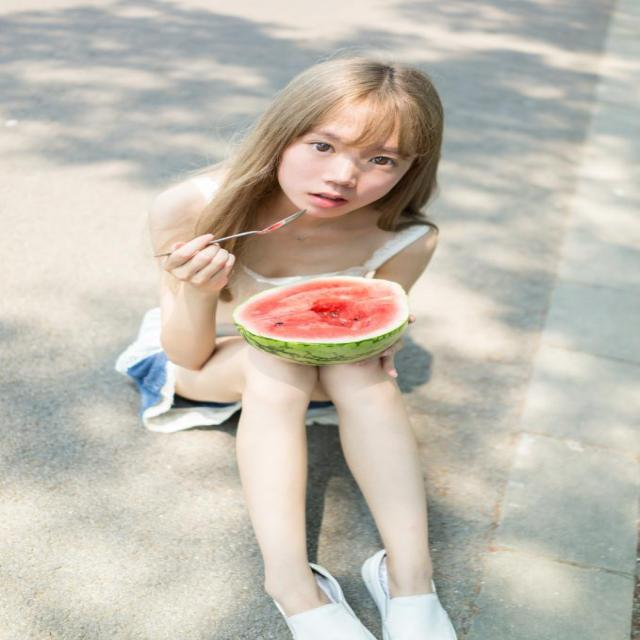obstacle: (143, 44, 465, 600)
